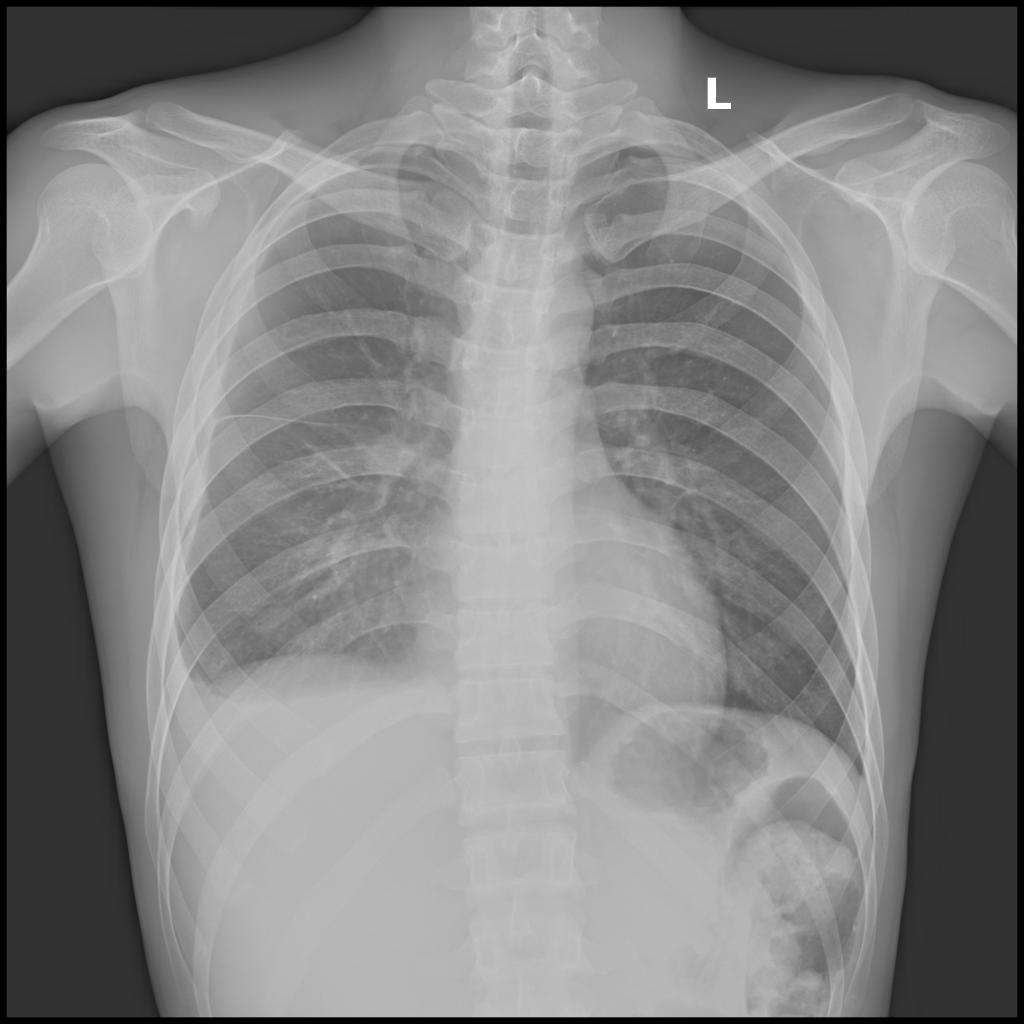Nodule: (363, 434, 413, 478)
